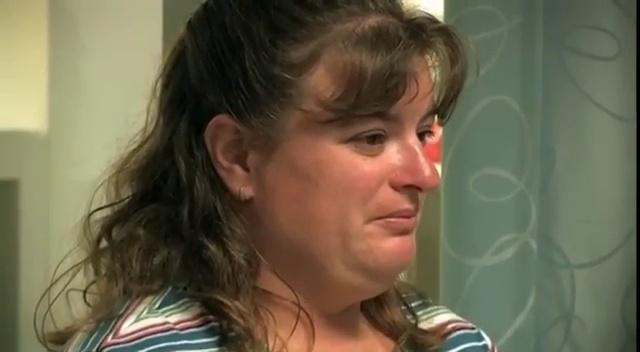nurse: (33, 0, 499, 351)
